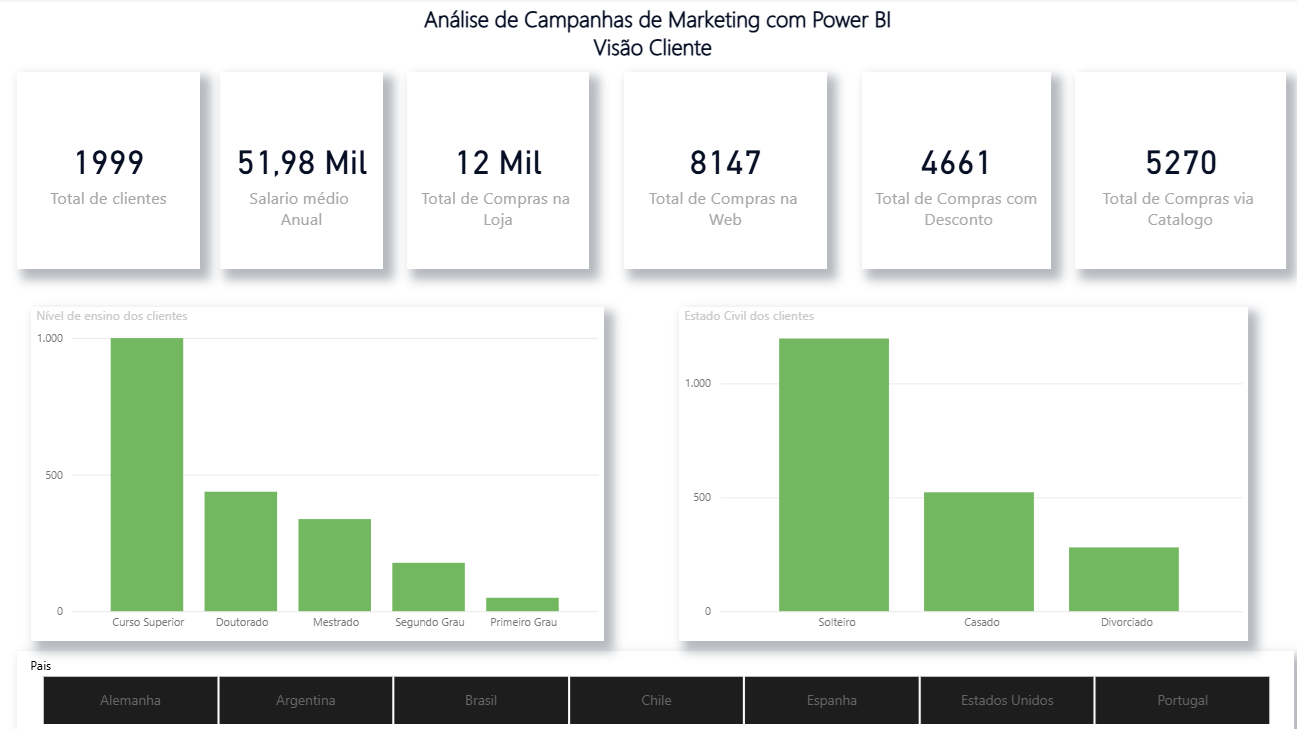

This screenshot's page, from the dashboard's own definition file:
{"tool":"powerbi","page":{"name":"Visão Cliente","canvas":[1280,720],"ordinal":0},"visuals":[{"type":"card","fields":{"Values":["CountNonNull(data.ID)"]},"box":[17.5,72,178,191.6],"z":0},{"type":"card","fields":{"Values":["Avg(data.Salario Anual)"]},"box":[215,72,158.5,191.6],"z":1000},{"type":"card","fields":{"Values":["Sum(data.Numero de Compras na Loja)"]},"box":[396.8,72,177,191.6],"z":2000},{"type":"card","fields":{"Values":["Sum(data.Numero de Compras na Web)"]},"box":[607.9,72,197.4,191.6],"z":3000},{"type":"card","fields":{"Values":["Sum(data.Numero de Compras com Desconto)"]},"box":[839.4,72,183.8,191.6],"z":4000},{"type":"card","fields":{"Values":["Sum(data.Numero de Compras via Catalogo)"]},"box":[1046.6,72,205.2,191.6],"z":5000},{"type":"textbox","box":[0,0,1280,65.2],"z":6000},{"type":"clusteredColumnChart","title":"Nível de ensino dos clientes","fields":{"Category":["data.Escolaridade"],"Y":["CountNonNull(data.ID)"]},"box":[31.1,300.5,557.3,324.9],"z":7000},{"type":"clusteredColumnChart","title":"Estado Civil dos clientes","fields":{"Category":["data.Estado Civil"],"Y":["CountNonNull(data.ID)"]},"box":[661.4,300.5,553.4,324.9],"z":8000},{"type":"slicer","fields":{"Values":["data.Pais"]},"box":[17.5,635.1,1242.1,77.8],"z":9000}]}

Visuals, with their boxes in screenshot pixels (x1, y1, x2, y2), scaled from the page's 1280x720 canvas onto the 1297x729 screenshot:
card - CountNonNull(data.ID): {"left": 18, "top": 73, "right": 198, "bottom": 267}
card - Avg(data.Salario Anual): {"left": 218, "top": 73, "right": 378, "bottom": 267}
card - Sum(data.Numero de Compras na Loja): {"left": 402, "top": 73, "right": 581, "bottom": 267}
card - Sum(data.Numero de Compras na Web): {"left": 616, "top": 73, "right": 816, "bottom": 267}
card - Sum(data.Numero de Compras com Desconto): {"left": 851, "top": 73, "right": 1037, "bottom": 267}
card - Sum(data.Numero de Compras via Catalogo): {"left": 1061, "top": 73, "right": 1268, "bottom": 267}
textbox: {"left": 0, "top": 0, "right": 1296, "bottom": 66}
"Nível de ensino dos clientes" clusteredColumnChart: {"left": 32, "top": 304, "right": 596, "bottom": 633}
"Estado Civil dos clientes" clusteredColumnChart: {"left": 670, "top": 304, "right": 1231, "bottom": 633}
slicer - data.Pais: {"left": 18, "top": 643, "right": 1276, "bottom": 722}
